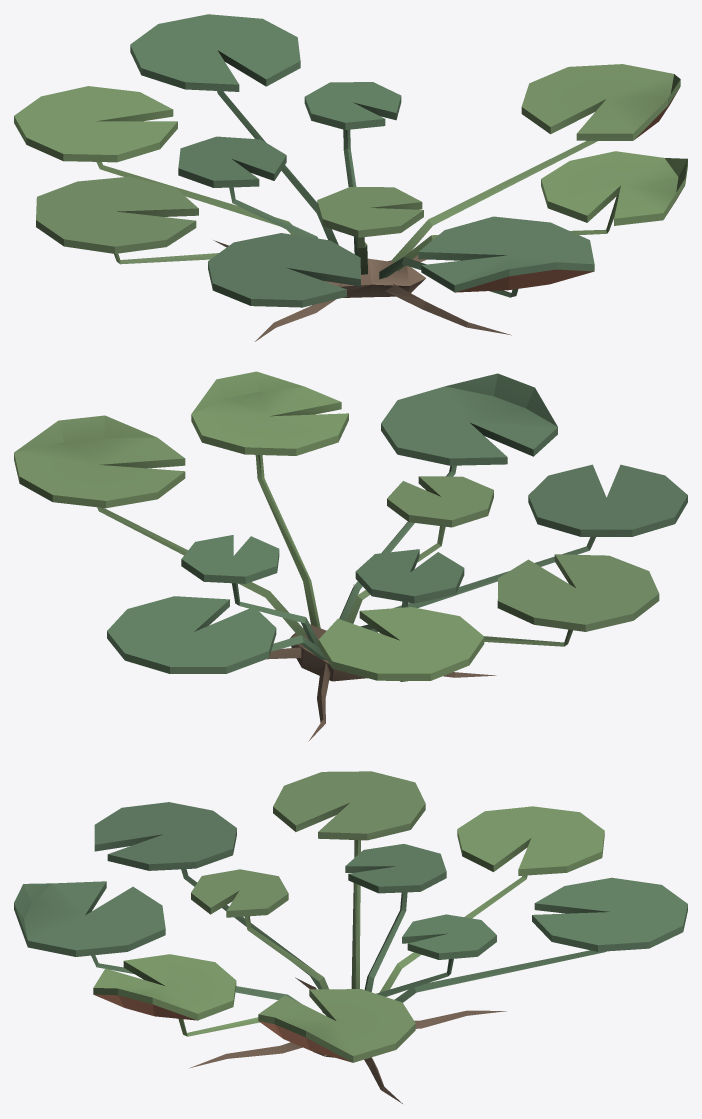
Rendered from lilies.glb.
The picture shows the model from 3 angles, top to bottom: view 1: azimuth 30°, elevation 25°; view 2: azimuth 150°, elevation 25°; view 3: azimuth 270°, elevation 25°; orthographic projection. The views are drawn at different scales.
Parts seen in each view (by area): view 1: lilies; view 2: lilies; view 3: lilies.
Boxes of the visible parts, x1,y1,x2,y2 form: lilies: [14, 14, 687, 341]; lilies: [14, 371, 687, 741]; lilies: [14, 771, 687, 1103].
Size of the model in its own units: 3 by 0.7058 by 3.
